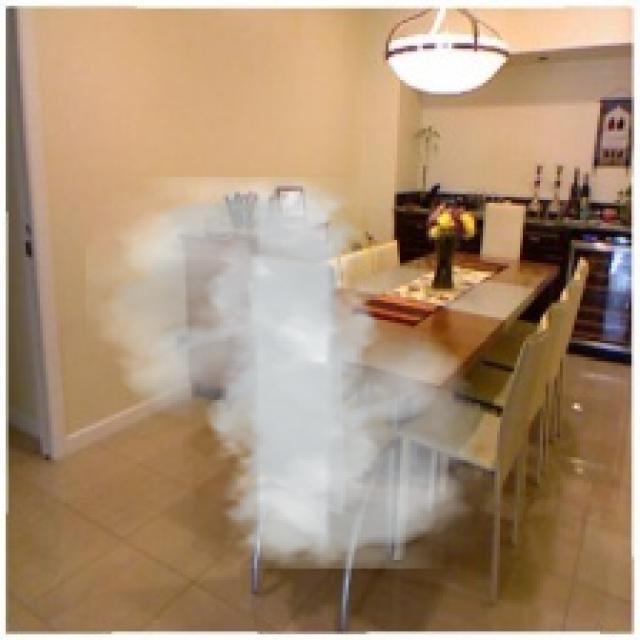Smoke: (86, 177, 500, 569)
